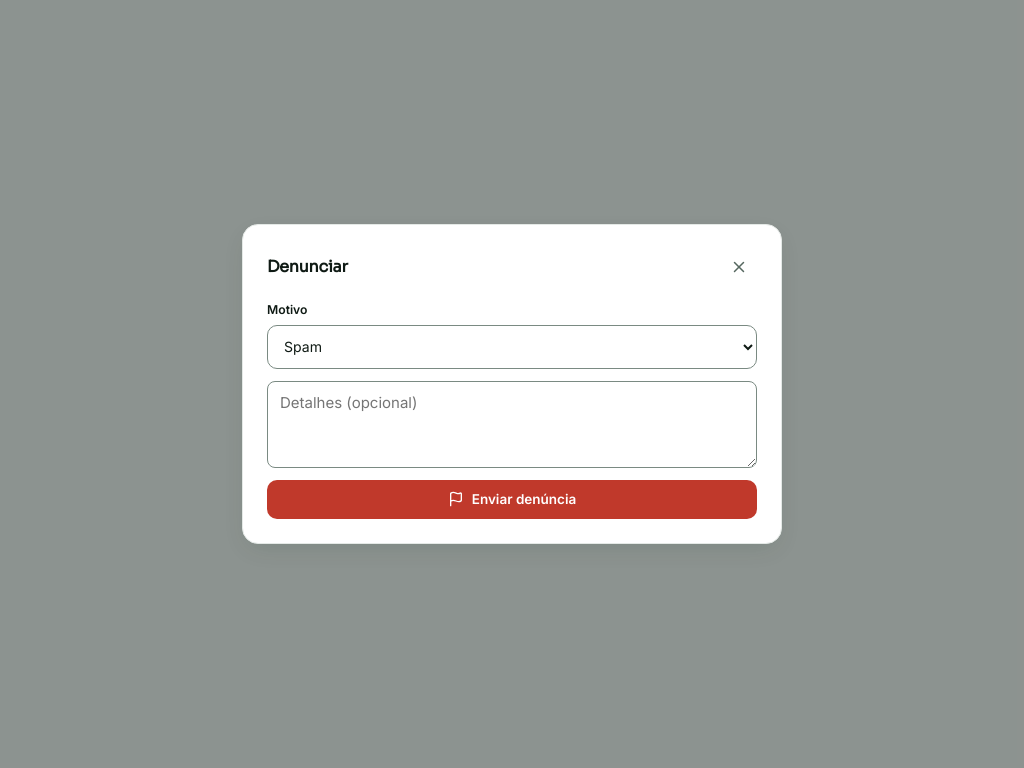
Test: denúncia de um alvo só › detalhes só com espaços contam como vazios (null)
The image size is (1024, 768).
Click the text box named "Detalhes da denúncia": [512, 424] box [267,381,757,468]
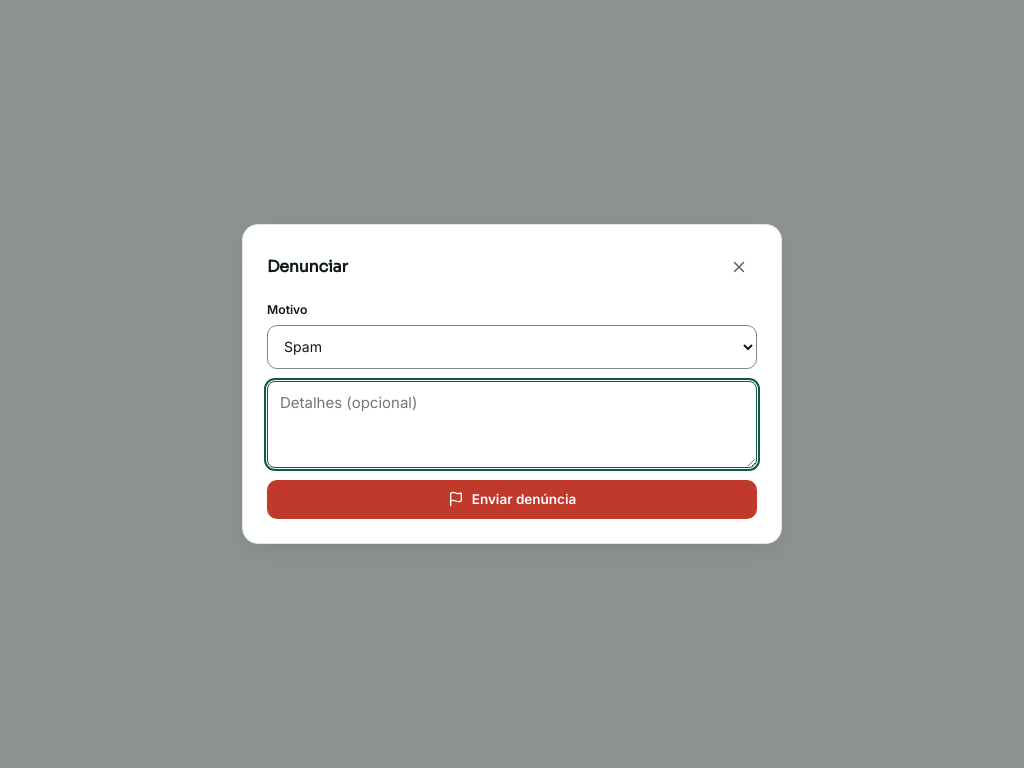
Type keys "   "
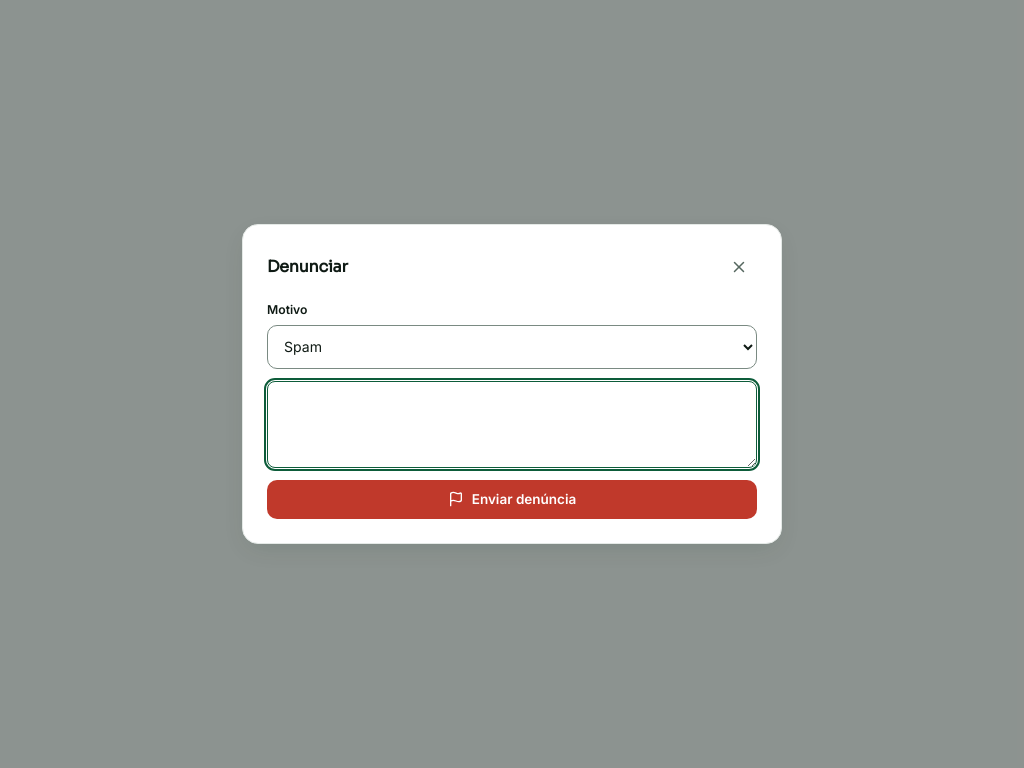
Click the button "Enviar denúncia": [512, 499] box [267,480,757,519]
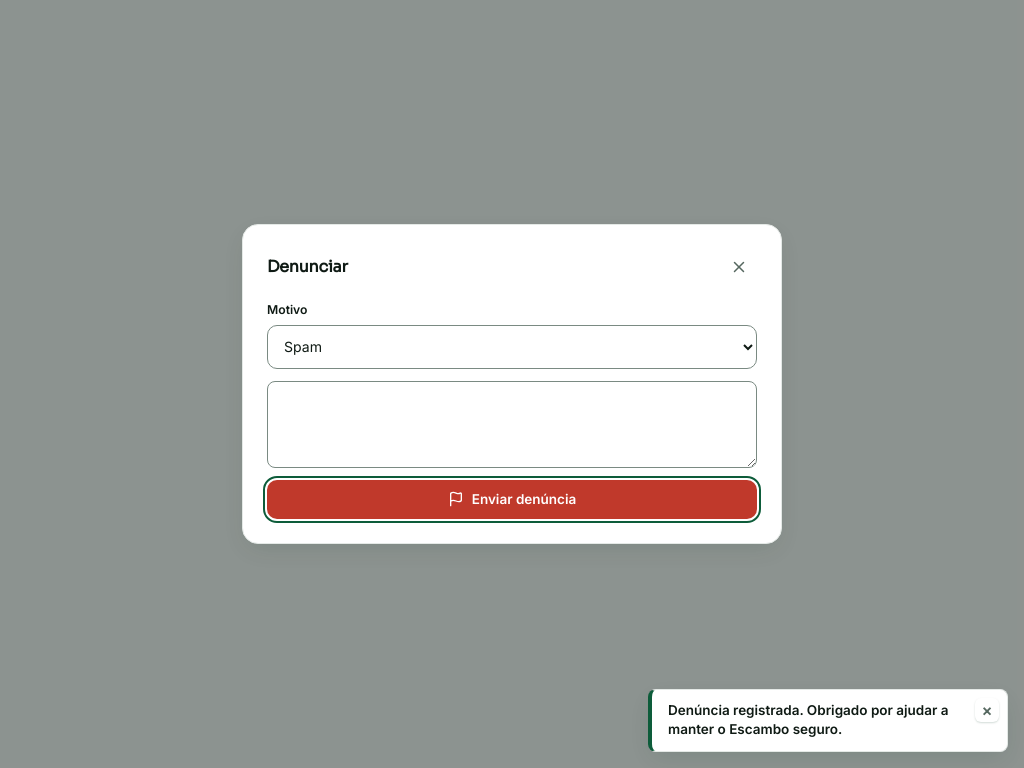
Expected: the text "Denúncia registrada." is shown, [668,702,948,738]
